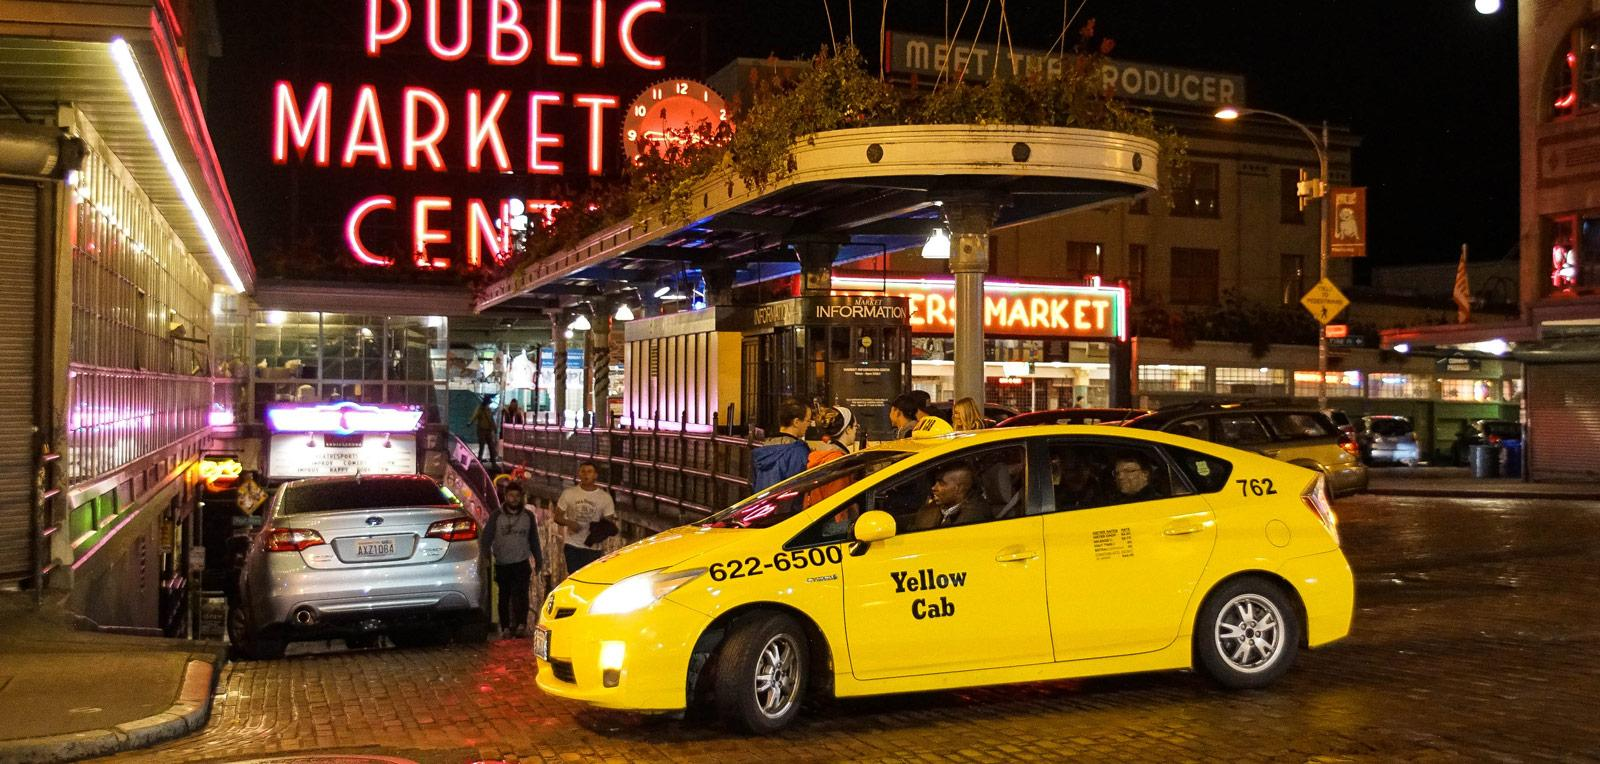taxi: (538, 419, 1390, 740)
